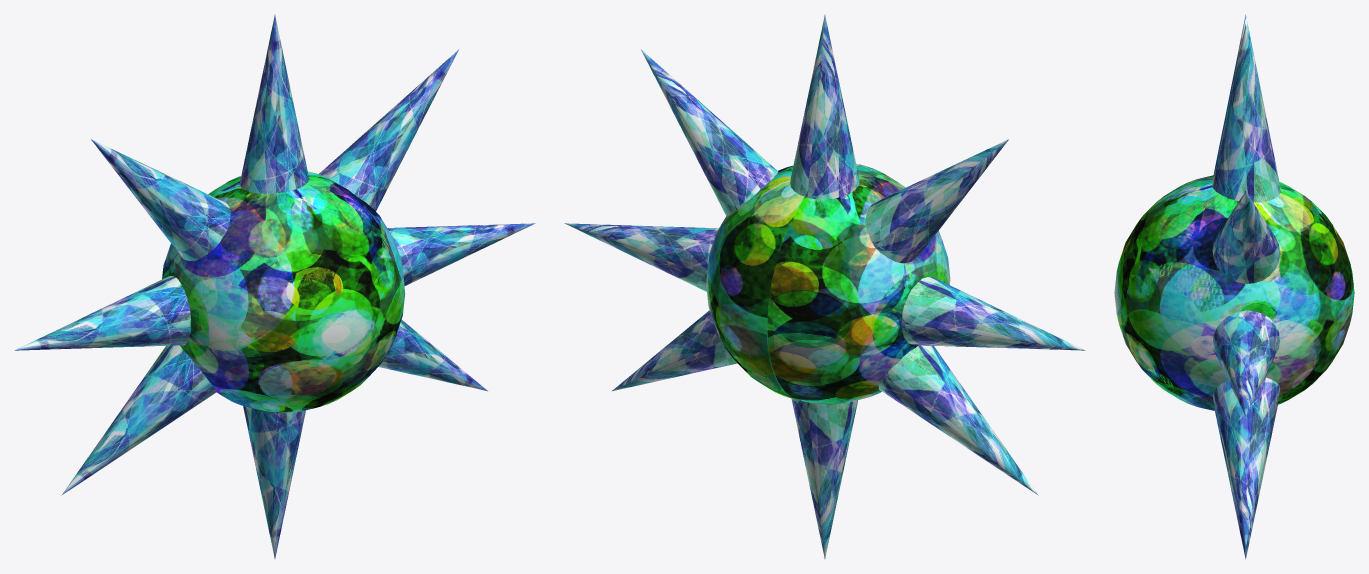
Rendered from maruToge.FBX.
The picture shows the model from 3 angles, left to right: view 1: azimuth 30°, elevation 25°; view 2: azimuth 150°, elevation 25°; view 3: azimuth 270°, elevation 25°; orthographic projection.
Visible parts, largest first — view 1: Sphere001, Cone004, Cone008, Cone001, Cone007, Cone005, Cone003, Cone002, Cone006; view 2: Sphere001, Cone004, Cone008, Cone001, Cone007, Cone005, Cone003, Cone002, Cone006; view 3: Sphere001, Cone001, Cone006, Cone002, Cone005, Cone003, Cone007.
Part boxes in pixels (x1=…): Sphere001: x1=162, y1=171, x2=405, y2=412; Cone004: x1=14, y1=275, x2=190, y2=350; Cone008: x1=61, y1=345, x2=216, y2=495; Cone001: x1=239, y1=15, x2=309, y2=193; Cone007: x1=91, y1=139, x2=230, y2=260; Cone005: x1=319, y1=49, x2=458, y2=211; Cone003: x1=243, y1=406, x2=305, y2=558; Cone002: x1=387, y1=223, x2=535, y2=285; Cone006: x1=378, y1=319, x2=487, y2=391; Sphere001: x1=706, y1=163, x2=950, y2=404; Cone004: x1=902, y1=277, x2=1085, y2=350; Cone008: x1=878, y1=345, x2=1038, y2=495; Cone001: x1=790, y1=15, x2=859, y2=199; Cone007: x1=865, y1=139, x2=1008, y2=263; Cone005: x1=641, y1=49, x2=778, y2=215; Cone003: x1=791, y1=398, x2=857, y2=558; Cone002: x1=564, y1=223, x2=718, y2=291; Cone006: x1=612, y1=310, x2=737, y2=391; Sphere001: x1=1114, y1=175, x2=1354, y2=411; Cone001: x1=1212, y1=24, x2=1280, y2=202; Cone006: x1=1212, y1=377, x2=1280, y2=547; Cone002: x1=1213, y1=310, x2=1279, y2=416; Cone005: x1=1212, y1=191, x2=1280, y2=283; Cone003: x1=1215, y1=405, x2=1277, y2=559; Cone007: x1=1213, y1=14, x2=1279, y2=181.
Size of the model in its own units: 161 by 65.39 by 161.
Materials: 9 (9 with a texture image).
